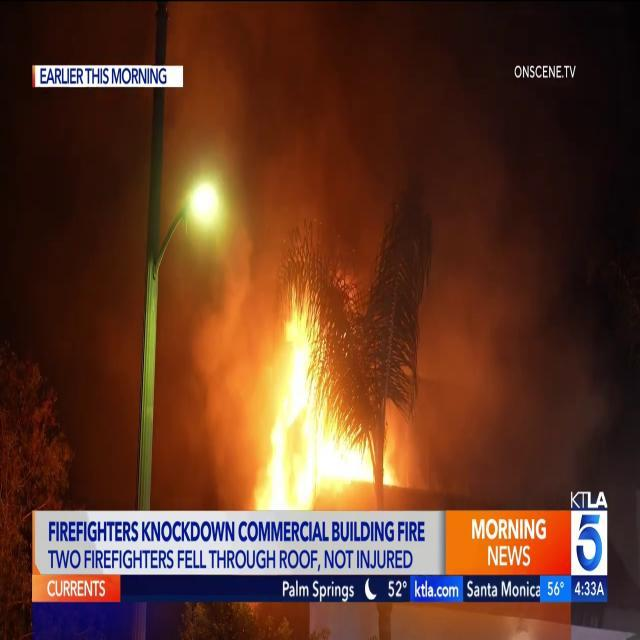Fire: (249, 291, 397, 513)
Smoke: (77, 0, 428, 420), (358, 21, 600, 464)
